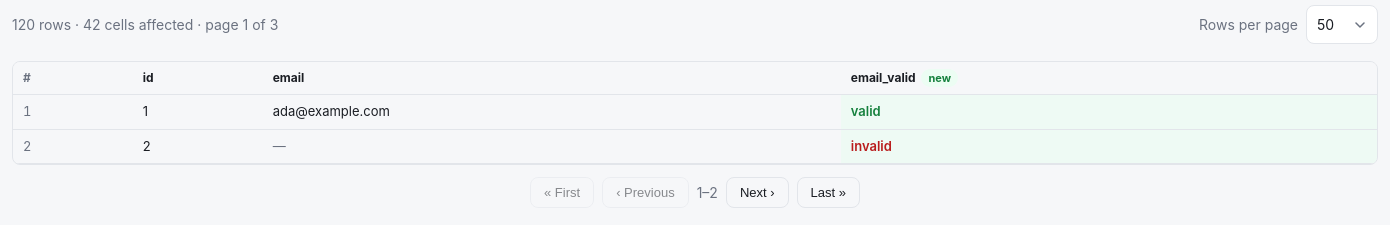
Test: ResultTable › walks pages and asks the API for the page it is showing
This screenshot has width=1390, height=225.
expect the table is shown: met, box [13, 62, 1377, 164]
expect the button "‹ Previous" is disabled: met, box [602, 177, 689, 208]
Click the button "Next ›": (757, 192) [726, 177, 789, 208]
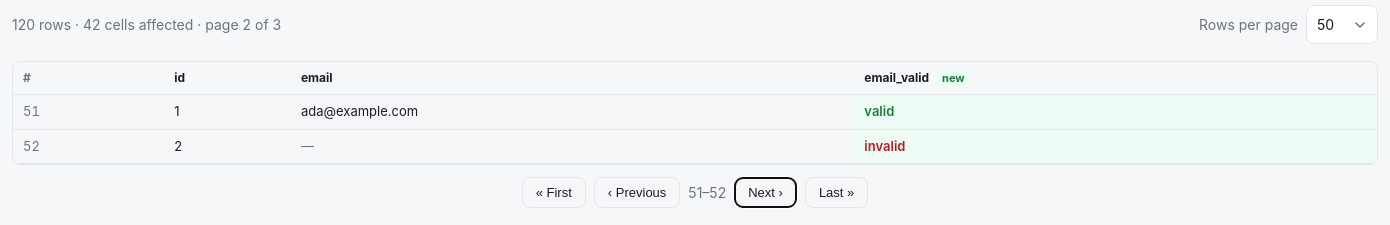
Click the button "Last »": (837, 192) [805, 177, 868, 208]
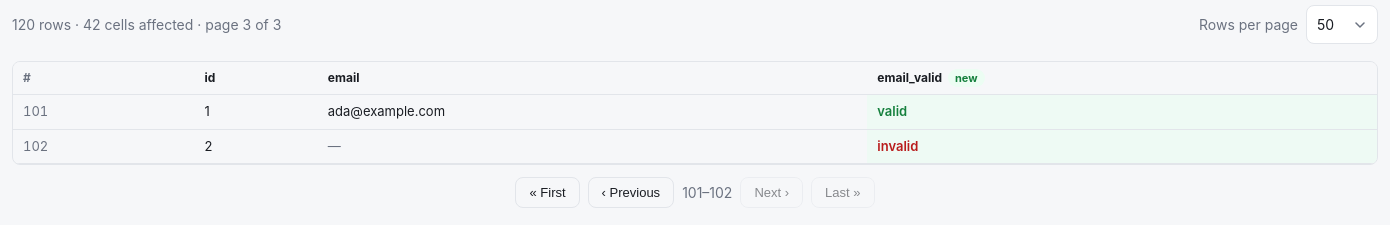
expect the button "Next ›" is disabled: met, box [740, 177, 803, 208]
